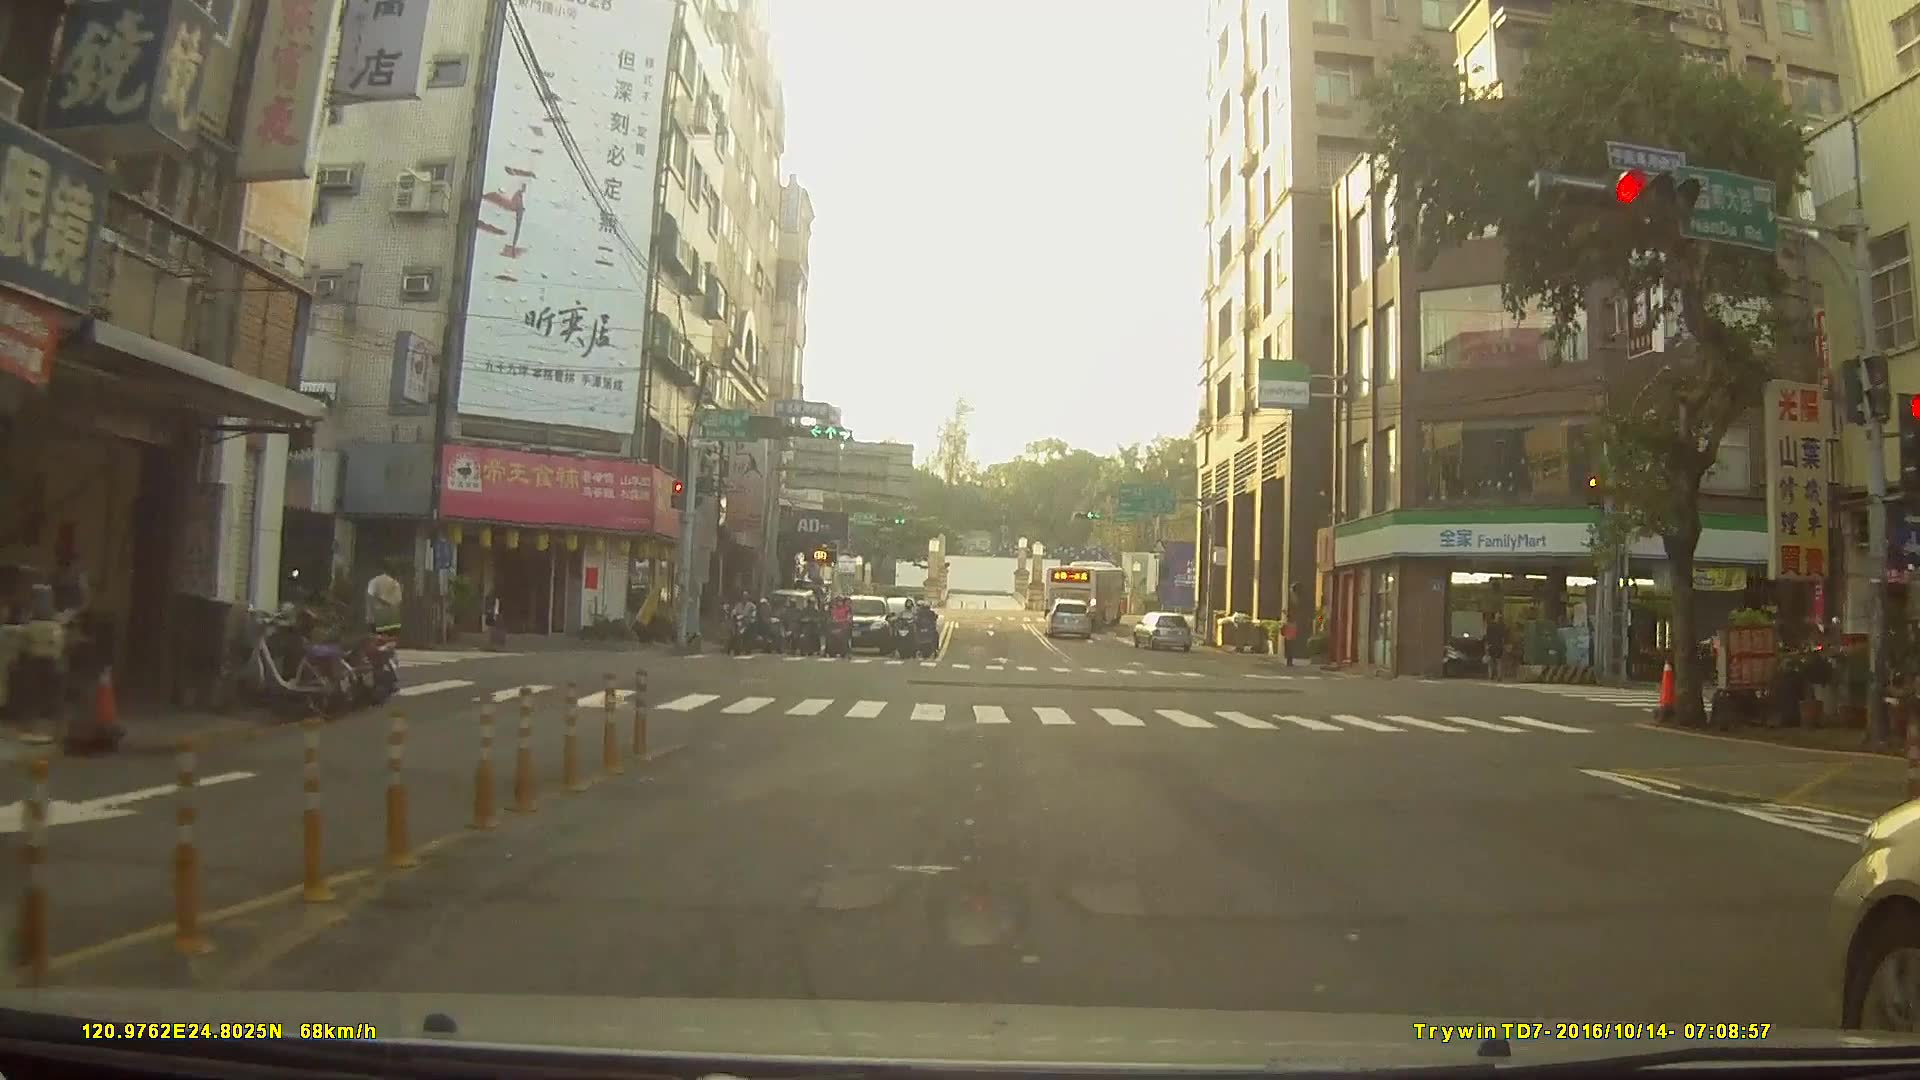pedestrian: (362, 557, 403, 677), (1484, 607, 1509, 686), (484, 594, 509, 654), (1281, 613, 1302, 670)
rider: (725, 596, 758, 661), (823, 600, 855, 667), (795, 603, 823, 661), (762, 594, 790, 651), (895, 596, 919, 662), (918, 604, 942, 664)
vehicle: (1043, 559, 1128, 623), (827, 591, 894, 657), (1131, 610, 1193, 650), (1044, 598, 1095, 639)
